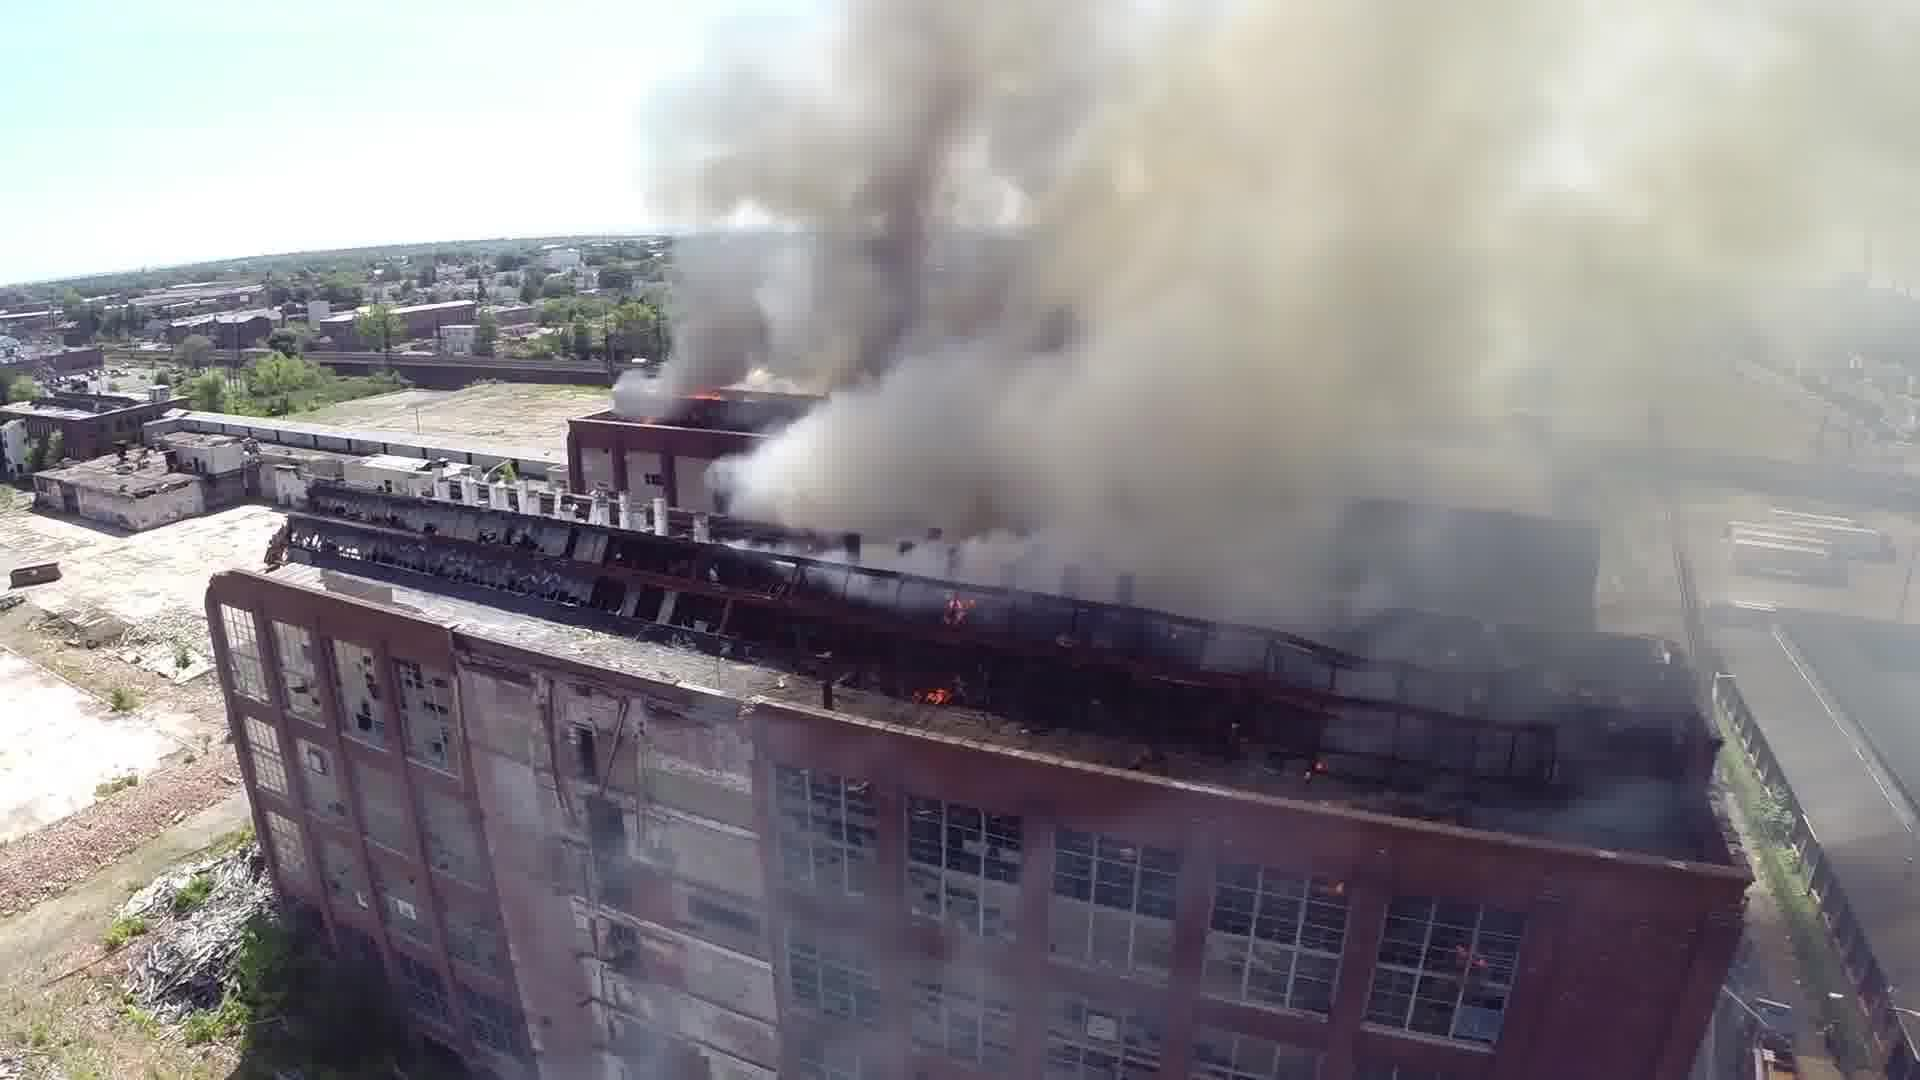smoke: (756, 54, 1506, 522)
